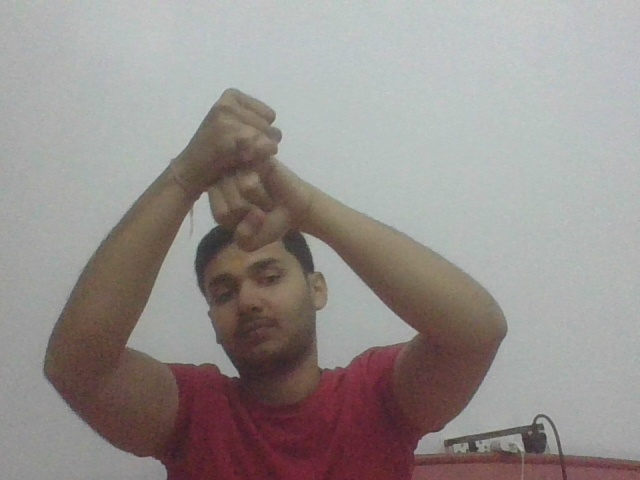S: (198, 88, 302, 252)
